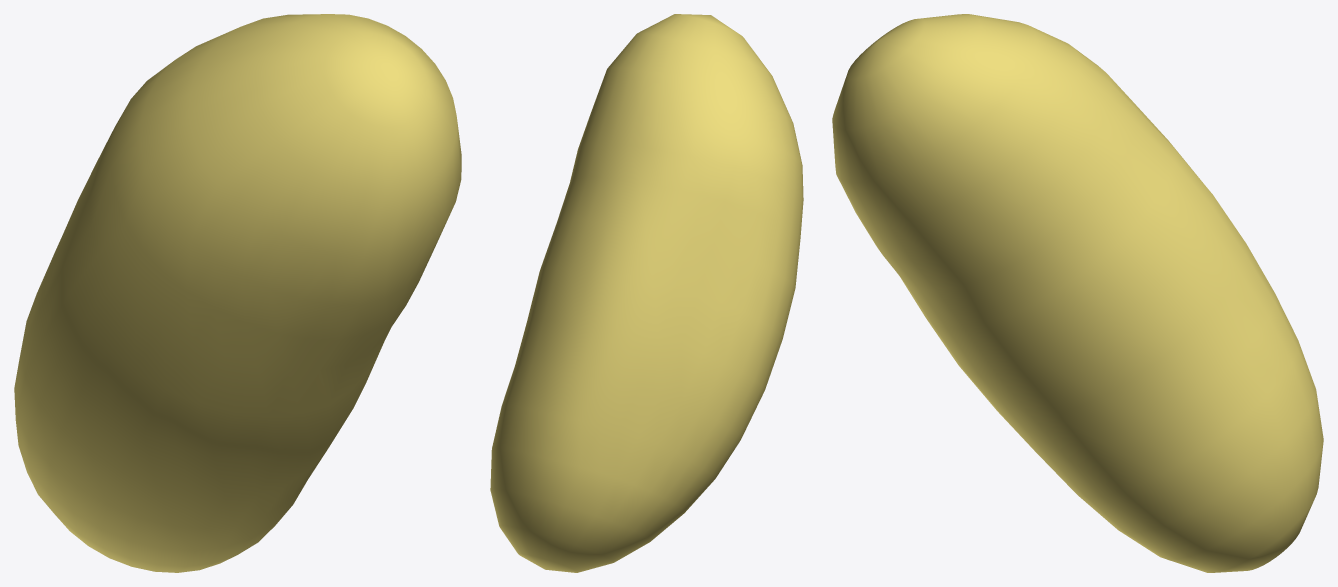
The model's file is pyramid-of-medulla-oblongata-r.glb.
3 views of the same model, side by side, from view 1: azimuth 30°, elevation 25°; view 2: azimuth 150°, elevation 25°; view 3: azimuth 270°, elevation 25° (orthographic). The views are drawn at different scales.
Parts seen in each view (by area): view 1: Pyramid of medulla oblongata.r; view 2: Pyramid of medulla oblongata.r; view 3: Pyramid of medulla oblongata.r.
Boxes of the visible parts, left/top/right/bottom form: Pyramid of medulla oblongata.r: left=14, top=14, right=461, bottom=572; Pyramid of medulla oblongata.r: left=490, top=14, right=803, bottom=572; Pyramid of medulla oblongata.r: left=832, top=14, right=1323, bottom=572.
Size of the model in its own units: 0.00673 by 0.0134 by 0.011.
